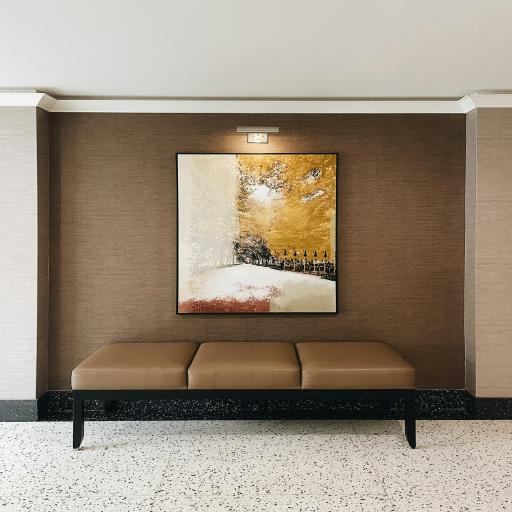sofa: (71, 341, 417, 450)
wall: (0, 92, 512, 422)
